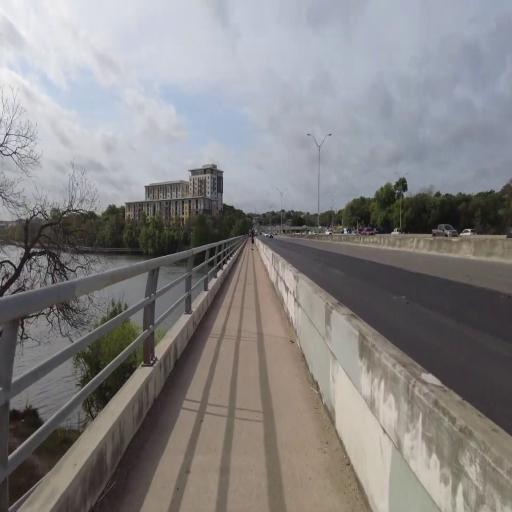Street_Light: (305, 129, 334, 236), (393, 167, 410, 231), (275, 184, 291, 238)
